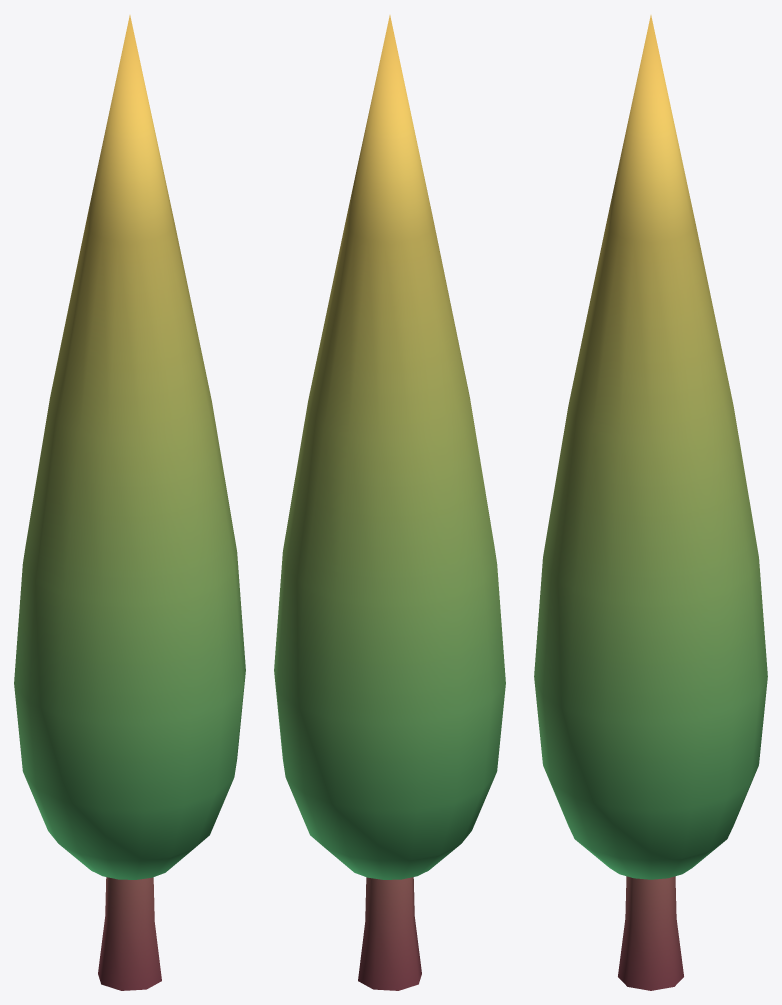
The model's file is Tree_Teardrop_01.fbx.
The picture shows the model from 3 angles, left to right: view 1: azimuth 30°, elevation 25°; view 2: azimuth 150°, elevation 25°; view 3: azimuth 270°, elevation 25°; orthographic projection.
Visible parts, largest first — view 1: Tree_Teardrop_01_Leaves, Tree_Teardrop_01_Trunk; view 2: Tree_Teardrop_01_Leaves, Tree_Teardrop_01_Trunk; view 3: Tree_Teardrop_01_Leaves, Tree_Teardrop_01_Trunk.
Boxes of the visible parts, x1,y1,x2,y2 form: Tree_Teardrop_01_Leaves: (14,15,245,879); Tree_Teardrop_01_Trunk: (98,877,161,990); Tree_Teardrop_01_Leaves: (274,15,505,879); Tree_Teardrop_01_Trunk: (358,877,421,990); Tree_Teardrop_01_Leaves: (534,15,767,879); Tree_Teardrop_01_Trunk: (618,876,683,990).
Size of the model in its own units: 137 by 622 by 137.
